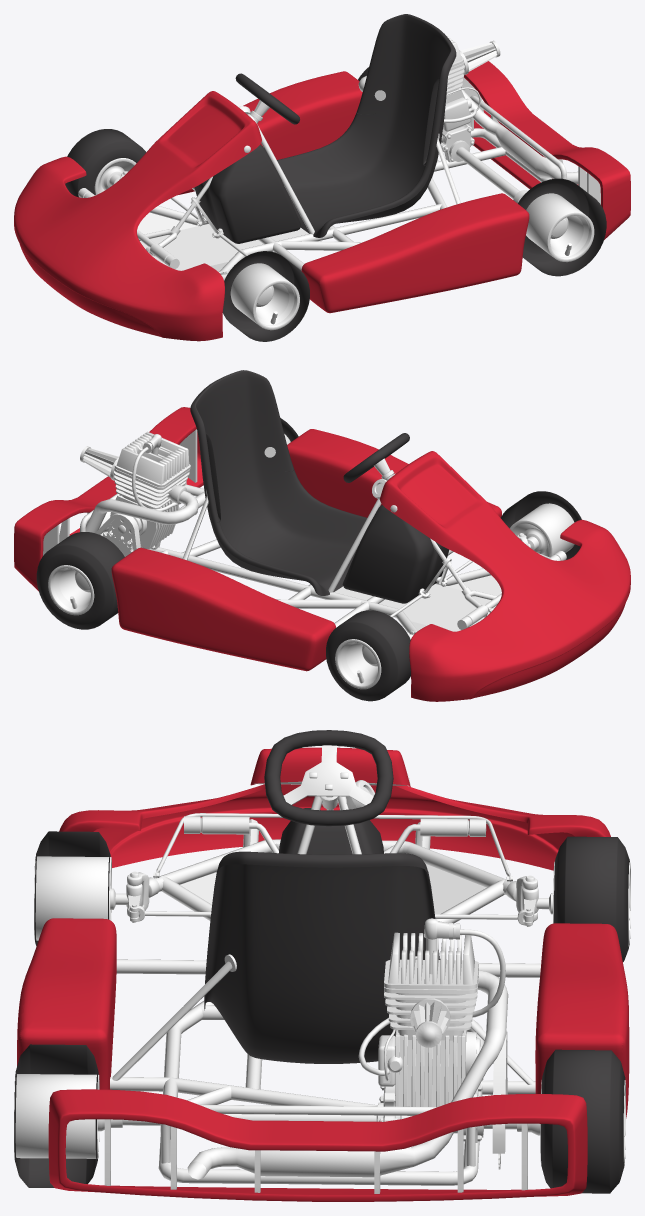
The model's file is redCarFix.fbx.
3 views of the same model, one above another, from view 1: azimuth 30°, elevation 25°; view 2: azimuth 150°, elevation 25°; view 3: azimuth 270°, elevation 25° (orthographic). The views are drawn at different scales.
Visible parts, largest first — view 1: Obj3d66-1710198-823-544, Obj3d66-1710198-887-546, Obj3d66-1710198-819-484, Obj3d66-1710198-881-828, Obj3d66-1710198-820-404, Obj3d66-1710198-879-118, Obj3d66-1710198-863-271, Obj3d66-1710198-872-258, Obj3d66-1710198-821-271, Obj3d66-1710198-832-197, Obj3d66-1710198-822-330, Obj3d66-1710198-828-600 (+8 smaller); view 2: Obj3d66-1710198-823-544, Obj3d66-1710198-887-546, Obj3d66-1710198-819-484, Obj3d66-1710198-820-404, Obj3d66-1710198-881-828, Obj3d66-1710198-857-821, Obj3d66-1710198-822-330, Obj3d66-1710198-879-118, Obj3d66-1710198-831-439, Obj3d66-1710198-872-258, Obj3d66-1710198-828-600, Obj3d66-1710198-875-170 (+9 smaller); view 3: Obj3d66-1710198-887-546, Obj3d66-1710198-819-484, Obj3d66-1710198-881-828, Obj3d66-1710198-823-544, Obj3d66-1710198-857-821, Obj3d66-1710198-828-600, Obj3d66-1710198-822-330, Obj3d66-1710198-854-971, Obj3d66-1710198-886-084, Obj3d66-1710198-863-271, Obj3d66-1710198-872-258, Obj3d66-1710198-831-439 (+18 smaller).
Boxes of the visible parts, <box> form: Obj3d66-1710198-823-544: <box>14,91,261,341</box>; Obj3d66-1710198-887-546: <box>177,61,630,313</box>; Obj3d66-1710198-819-484: <box>277,14,456,237</box>; Obj3d66-1710198-881-828: <box>119,95,566,280</box>; Obj3d66-1710198-820-404: <box>194,144,300,243</box>; Obj3d66-1710198-879-118: <box>137,212,308,271</box>; Obj3d66-1710198-863-271: <box>526,193,594,261</box>; Obj3d66-1710198-872-258: <box>230,263,299,330</box>; Obj3d66-1710198-821-271: <box>518,178,606,276</box>; Obj3d66-1710198-832-197: <box>222,251,309,341</box>; Obj3d66-1710198-822-330: <box>65,129,146,197</box>; Obj3d66-1710198-828-600: <box>358,76,578,184</box>; Obj3d66-1710198-823-544: <box>379,451,630,701</box>; Obj3d66-1710198-887-546: <box>14,407,501,671</box>; Obj3d66-1710198-819-484: <box>190,370,366,595</box>; Obj3d66-1710198-820-404: <box>342,505,449,603</box>; Obj3d66-1710198-881-828: <box>80,458,528,639</box>; Obj3d66-1710198-857-821: <box>36,532,124,629</box>; Obj3d66-1710198-822-330: <box>326,610,410,701</box>; Obj3d66-1710198-879-118: <box>334,575,501,631</box>; Obj3d66-1710198-831-439: <box>114,431,190,487</box>; Obj3d66-1710198-872-258: <box>510,503,574,557</box>; Obj3d66-1710198-828-600: <box>85,491,198,532</box>; Obj3d66-1710198-875-170: <box>335,639,381,689</box>; Obj3d66-1710198-887-546: <box>17,918,629,1201</box>; Obj3d66-1710198-819-484: <box>204,851,440,1063</box>; Obj3d66-1710198-881-828: <box>110,796,540,1185</box>; Obj3d66-1710198-823-544: <box>59,747,610,870</box>; Obj3d66-1710198-857-821: <box>541,1049,625,1193</box>; Obj3d66-1710198-828-600: <box>187,970,508,1179</box>; Obj3d66-1710198-822-330: <box>554,836,629,961</box>; Obj3d66-1710198-854-971: <box>378,1030,467,1106</box>; Obj3d66-1710198-886-084: <box>264,730,393,826</box>; Obj3d66-1710198-863-271: <box>14,1074,99,1158</box>; Obj3d66-1710198-872-258: <box>34,856,111,940</box>; Obj3d66-1710198-831-439: <box>384,932,478,989</box>.
Bounding box in the file's own units: 1.22 × 0.4383 × 0.8247.
